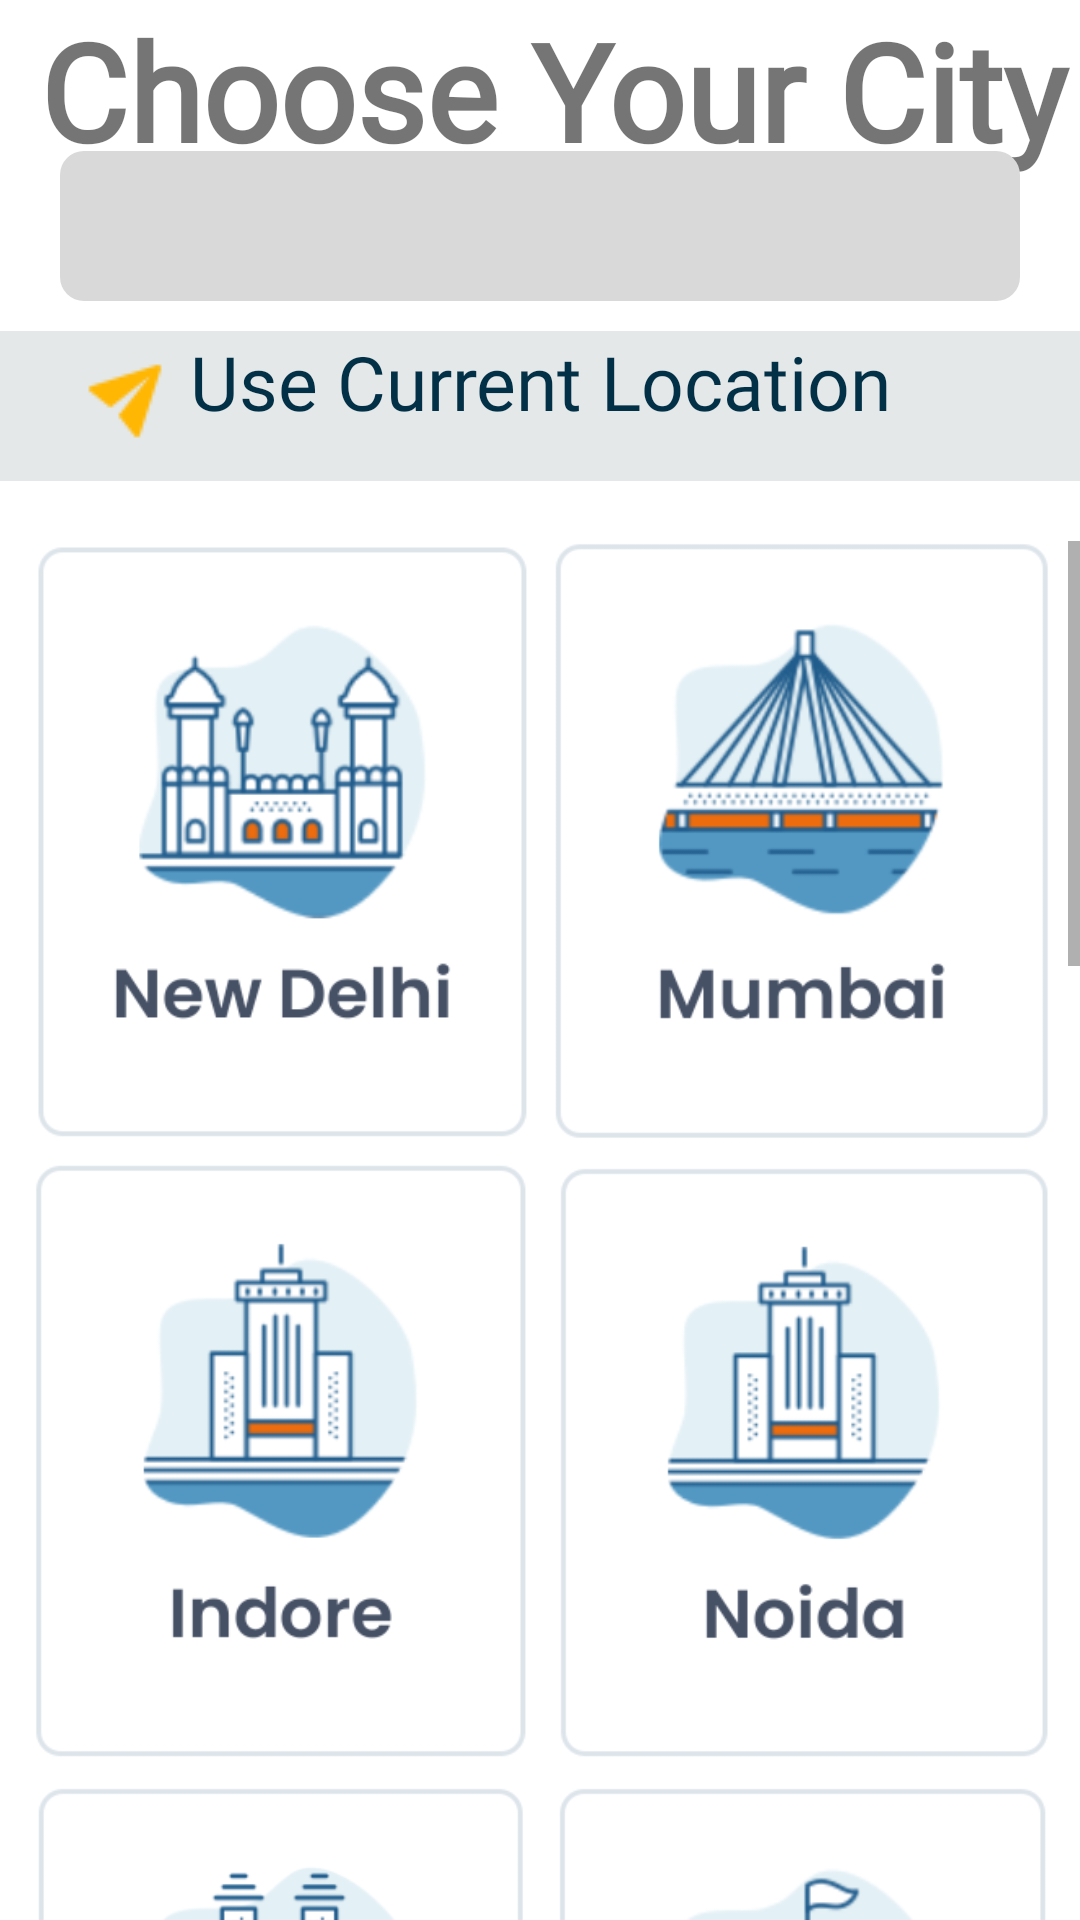

Named icons in this screenshot (1080x1920) and their bounding boxes, (x1, y1, x2, y2):
send: (88, 364, 162, 438)
